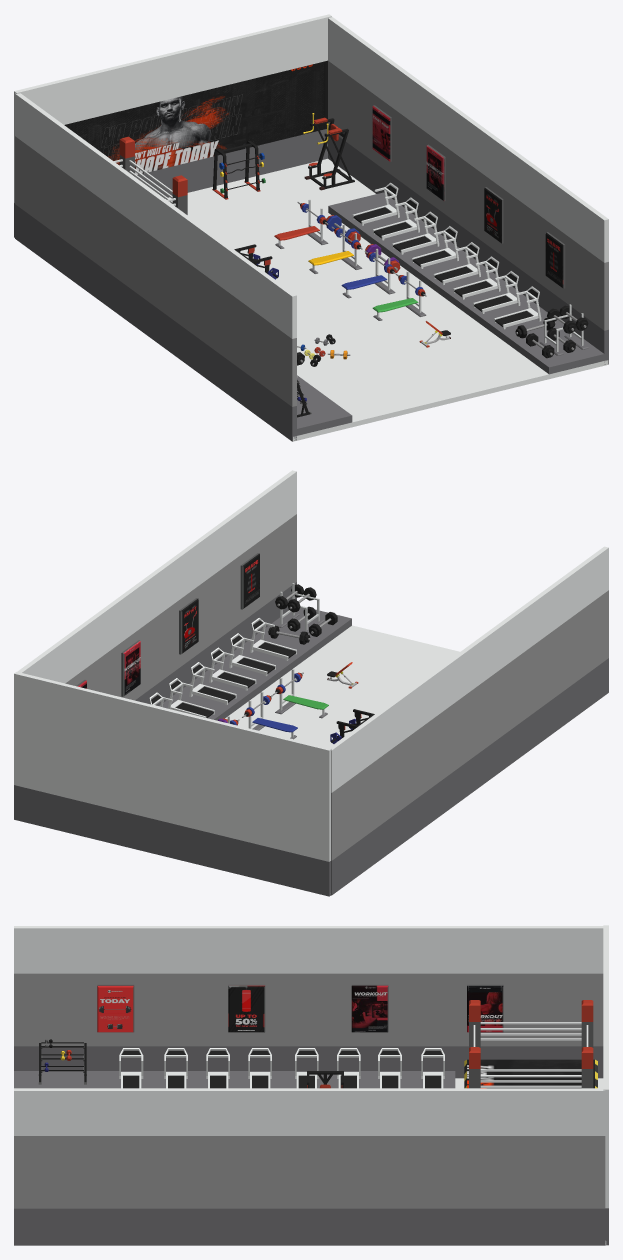
Rendered from map 10 - khu the duc.fbx.
The picture shows the model from 3 angles, top to bottom: view 1: azimuth 30°, elevation 25°; view 2: azimuth 150°, elevation 25°; view 3: azimuth 270°, elevation 25°; orthographic projection. The views are drawn at different scales.
Parts seen in each view (by area): view 1: Mesh_tuong, Mesh_nen, Mesh_tuong1, Mesh_tuong2, Mesh_them_nha1, Mesh_them_nha, Mesh_san_kickfit, Mesh_may_tap_vai, Mesh_gia_ta_2, Mesh__tranh_tranh, Mesh_tranh1, Mesh_tranh2 (+9 smaller); view 2: Mesh_tuong2, Mesh_tuong, Mesh_tuong1, Mesh_nen, Mesh_them_nha1, Mesh_tranh1, Mesh_tranh2, Mesh__tranh_tranh, Mesh_may_chay12, Mesh_may_chay13, Mesh_may_chay14, Mesh_may_chay15 (+1 smaller); view 3: Mesh_tuong1, Mesh_tuong, Mesh_san_kickfit, Mesh_them_nha, Mesh_tranh4, Mesh_tranh5, Mesh_tranh6, Mesh_tuong2, Mesh_tranh7, Mesh_gia_de_ta, Mesh_may_chay7, Mesh__may_chay_may_chay (+6 smaller).
Part boxes in pixels (bbox=[...]): Mesh_tuong: bbox=[15, 93, 296, 441]; Mesh_nen: bbox=[165, 158, 608, 441]; Mesh_tuong1: bbox=[328, 17, 608, 364]; Mesh_tuong2: bbox=[14, 14, 331, 237]; Mesh_them_nha1: bbox=[328, 192, 604, 374]; Mesh_them_nha: bbox=[297, 375, 352, 435]; Mesh_san_kickfit: bbox=[114, 136, 187, 214]; Mesh_may_tap_vai: bbox=[303, 113, 354, 190]; Mesh_gia_ta_2: bbox=[212, 140, 265, 199]; Mesh__tranh_tranh: bbox=[545, 232, 565, 288]; Mesh_tranh1: bbox=[484, 187, 503, 243]; Mesh_tranh2: bbox=[426, 144, 445, 201]; Mesh_tuong2: bbox=[14, 672, 331, 896]; Mesh_tuong: bbox=[329, 546, 608, 895]; Mesh_tuong1: bbox=[17, 470, 296, 705]; Mesh_nen: bbox=[225, 625, 459, 747]; Mesh_them_nha1: bbox=[159, 608, 351, 720]; Mesh_tranh1: bbox=[179, 598, 198, 654]; Mesh_tranh2: bbox=[121, 640, 140, 696]; Mesh__tranh_tranh: bbox=[240, 553, 259, 609]; Mesh_may_chay12: bbox=[189, 662, 236, 704]; Mesh_may_chay13: bbox=[209, 647, 256, 690]; Mesh_may_chay14: bbox=[229, 633, 275, 676]; Mesh_may_chay15: bbox=[250, 618, 296, 660]; Mesh_tuong1: bbox=[14, 1088, 605, 1245]; Mesh_tuong: bbox=[14, 926, 603, 1078]; Mesh_san_kickfit: bbox=[464, 1000, 597, 1088]; Mesh_them_nha: bbox=[14, 1071, 455, 1088]; Mesh_tranh4: bbox=[97, 984, 134, 1032]; Mesh_tranh5: bbox=[228, 984, 265, 1032]; Mesh_tranh6: bbox=[351, 984, 388, 1032]; Mesh_tuong2: bbox=[603, 925, 608, 1245]; Mesh_tranh7: bbox=[467, 984, 503, 1032]; Mesh_gia_de_ta: bbox=[38, 1039, 86, 1084]; Mesh_may_chay7: bbox=[119, 1048, 143, 1088]; Mesh__may_chay_may_chay: bbox=[421, 1048, 444, 1088].
Size of the model in its own units: 111 by 48.88 by 169.
